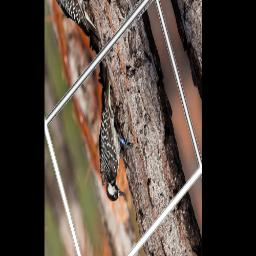Woodpecker: (74, 46, 148, 223)
